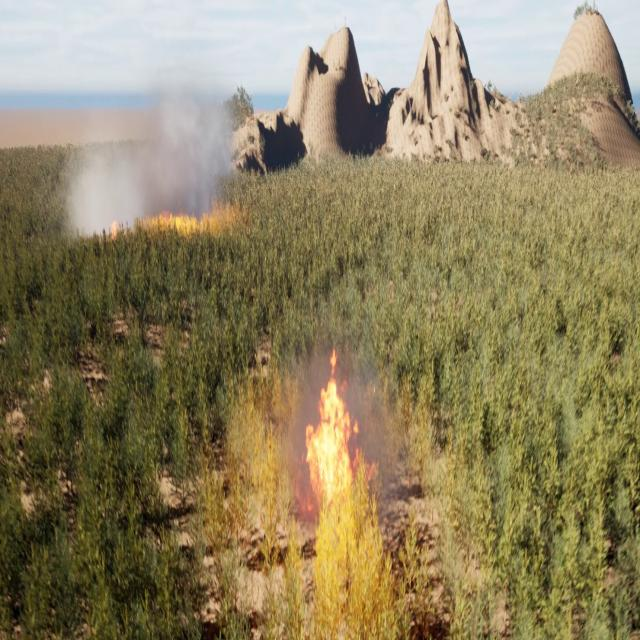fire: (304, 343, 359, 498)
smoke: (62, 59, 234, 248), (283, 320, 397, 523)
